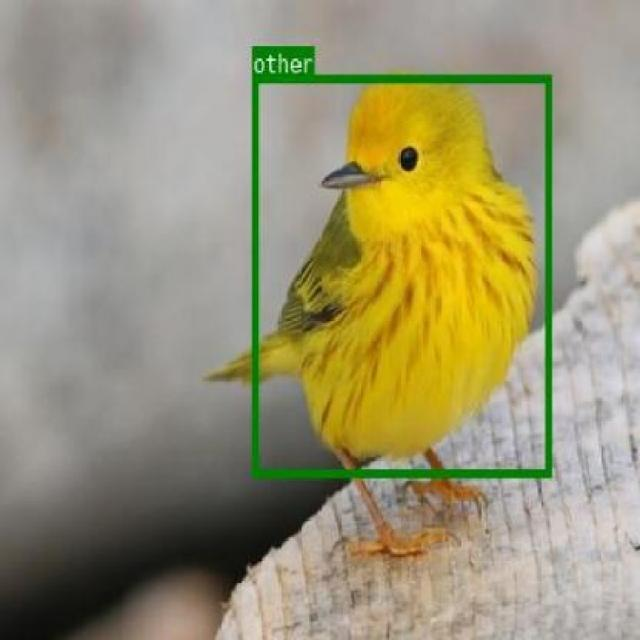other: (250, 73, 550, 476)
